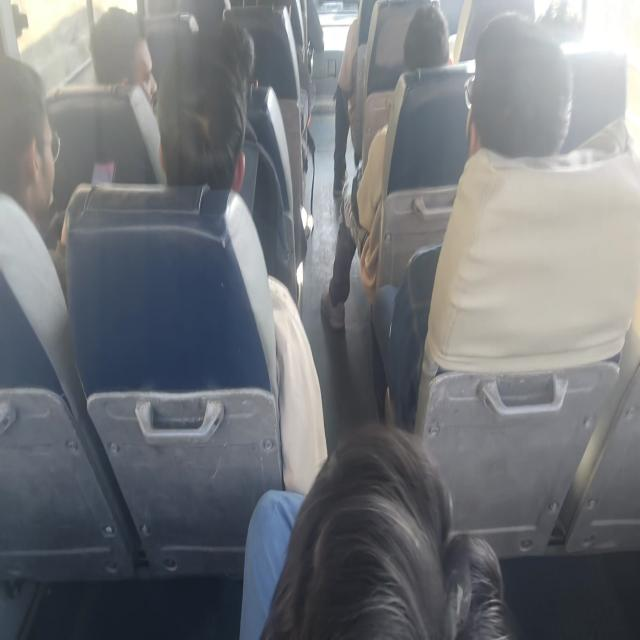person: (284, 381, 538, 640), (136, 35, 259, 200), (464, 29, 562, 212), (0, 65, 74, 214), (102, 12, 158, 124), (340, 5, 386, 134), (401, 3, 452, 79), (221, 12, 263, 88)
